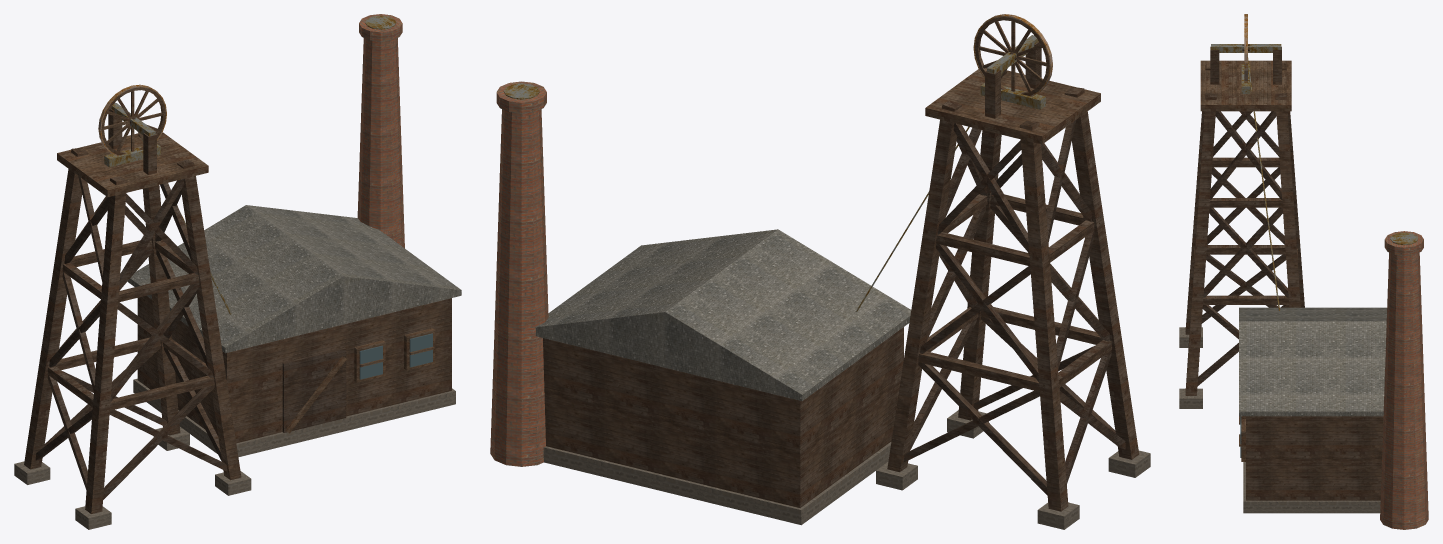
File: mine_headframe.glb
3 views of the same model, side by side, from view 1: azimuth 30°, elevation 25°; view 2: azimuth 150°, elevation 25°; view 3: azimuth 270°, elevation 25° (orthographic). The views are drawn at different scales.
Parts seen in each view (by area): view 1: Engine shed roof, Battered timber leg (×4), Engine shed siding, Diagonal brace (×14), Brick boiler chimney, Horizontal girt (×6), Sheave deck, Sliding freight door, Engine shed rubble base, Granite pier (×3), Hoist shop glazing (×2), Hoist shop sash (×2) (+5 smaller); view 2: Engine shed roof, Engine shed siding, Battered timber leg (×4), Brick boiler chimney, Diagonal brace (×13), Engine shed rubble base, Sheave deck, Horizontal girt (×4), Granite pier (×3), Corbelled chimney crown, Hoisting sheaveFelloe; view 3: Engine shed roof, Engine shed siding, Brick boiler chimney, Battered timber leg (×4), Diagonal brace (×11), Sheave deck, Horizontal girt (×4), Engine shed rubble base, Sheave bearing support (×2), Corbelled chimney crown, Sheave shaft, Haul cable (+1 smaller).
Boxes of the visible parts, box(x1,y1,x2,y2) form: Engine shed roof: box(127, 205, 461, 353); Battered timber leg (×4): box(24, 133, 241, 513); Engine shed siding: box(137, 295, 451, 443); Diagonal brace (×14): box(35, 176, 227, 499); Brick boiler chimney: box(357, 38, 404, 248); Horizontal girt (×6): box(47, 240, 214, 410); Sheave deck: box(57, 131, 208, 197); Sliding freight door: box(282, 347, 346, 432); Engine shed rubble base: box(133, 378, 455, 457); Granite pier (×3): box(14, 461, 251, 529); Hoist shop glazing (×2): box(359, 333, 432, 379); Hoist shop sash (×2): box(354, 328, 435, 382); Engine shed roof: box(535, 229, 911, 401); Engine shed siding: box(543, 327, 903, 507); Battered timber leg (×4): box(887, 71, 1139, 511); Brick boiler chimney: box(490, 109, 548, 466); Diagonal brace (×13): box(903, 120, 1111, 495); Engine shed rubble base: box(543, 442, 891, 525); Sheave deck: box(925, 68, 1100, 144); Horizontal girt (×4): box(918, 232, 1111, 391); Granite pier (×3): box(876, 450, 1150, 529); Corbelled chimney crown: box(496, 81, 546, 113); Hoisting sheaveFelloe: box(975, 17, 1049, 95); Engine shed roof: box(1239, 307, 1386, 416); Engine shed siding: box(1246, 416, 1383, 500); Brick boiler chimney: box(1380, 252, 1428, 529); Battered timber leg (×4): box(1185, 62, 1304, 395); Diagonal brace (×11): box(1197, 111, 1289, 385); Sheave deck: box(1200, 60, 1291, 111); Horizontal girt (×4): box(1203, 157, 1289, 304); Engine shed rubble base: box(1243, 462, 1380, 513); Sheave bearing support (×2): box(1210, 46, 1281, 84); Corbelled chimney crown: box(1384, 231, 1423, 255); Sheave shaft: box(1211, 44, 1281, 52); Haul cable: box(1248, 58, 1279, 310).
Bounding box in the file's own units: 17.05 × 14.65 × 9.3.
Materials: 9 (8 with a texture image).
